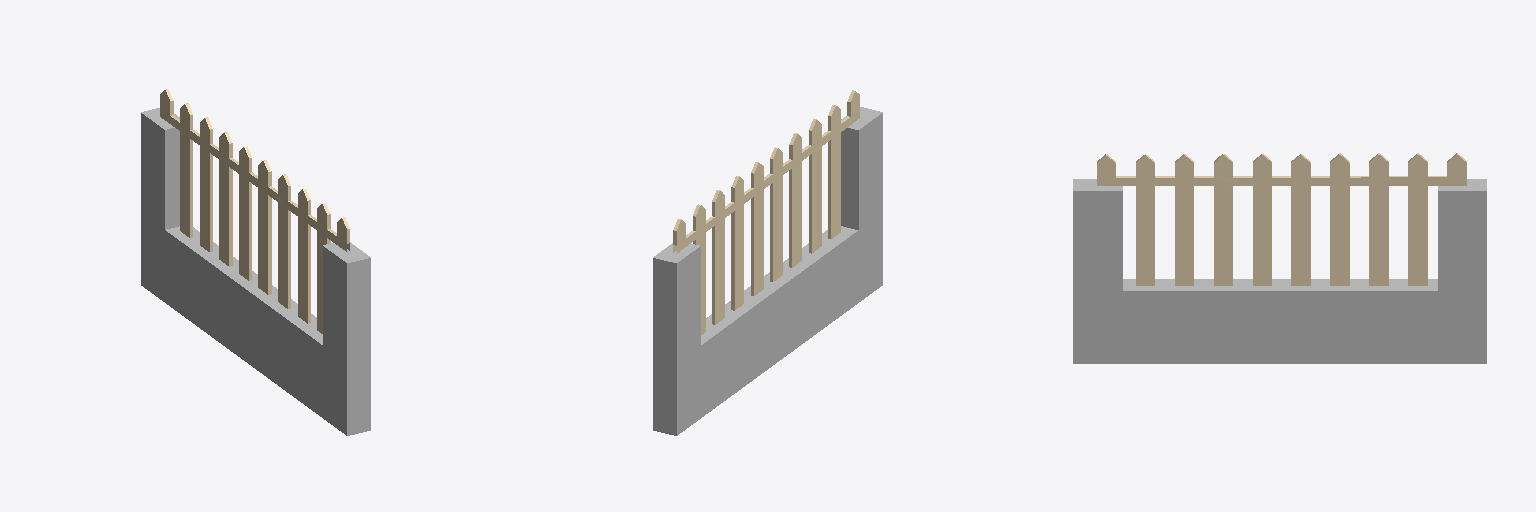
The picture shows the model from 3 angles: view 1: azimuth 30°, elevation 25°; view 2: azimuth 150°, elevation 25°; view 3: azimuth 270°, elevation 25°; orthographic projection.
Visible parts, largest first — view 1: Cube_Cube.001, Fence_Cube.008; view 2: Cube_Cube.001, Fence_Cube.008; view 3: Cube_Cube.001, Fence_Cube.008.
Boxes of the visible parts, <box> form: Cube_Cube.001: <box>141,108,370,435</box>; Fence_Cube.008: <box>160,89,349,333</box>; Cube_Cube.001: <box>653,107,882,435</box>; Fence_Cube.008: <box>673,90,859,334</box>; Cube_Cube.001: <box>1073,179,1486,363</box>; Fence_Cube.008: <box>1097,153,1466,285</box>.
Size of the model in its own units: 0.6538 by 5.3 by 9.75.
Materials: 2 (1 with a texture image).